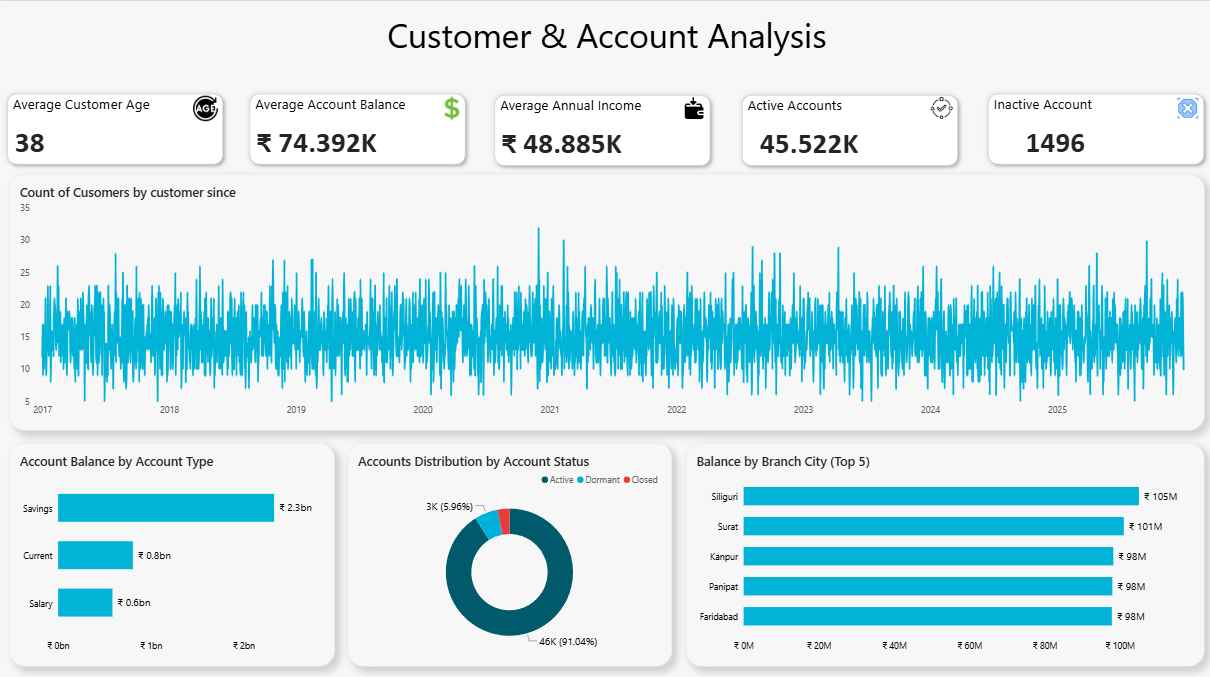

The page's visual inventory and layout, read from the dashboard file:
{"tool":"powerbi","page":{"name":"Customer & Account Analysis","canvas":[1920,1080],"ordinal":1},"visuals":[{"type":"shape","box":[388.3,138.7,360,130],"z":0},{"type":"card","title":"Total Customers","fields":{"Values":["account_measures.average_account_balance"]},"box":[384.3,178.3,239.4,85.6],"z":1000},{"type":"textbox","box":[405.8,148.3,293.9,58.4],"z":2000},{"type":"image","box":[672.3,150,90,40],"z":3000},{"type":"shape","box":[776.6,139.6,360,130],"z":4000},{"type":"card","title":"Total Customers","fields":{"Values":["customer_measures.average_annual_income"]},"box":[772.7,179.2,239.4,85.6],"z":5000},{"type":"textbox","box":[794.2,149.2,293.9,58.4],"z":6000},{"type":"shape","box":[1168.3,139.6,360,130],"z":7000},{"type":"card","title":"Total Customers","fields":{"Values":["account_measures.active_accounts"]},"box":[1164.3,179.2,239.4,85.6],"z":8000},{"type":"textbox","box":[1185.8,149.2,293.9,58.4],"z":9000},{"type":"shape","box":[1558.2,138.8,360,130],"z":10000},{"type":"card","title":"Total Customers","fields":{"Values":["account_measures.inactive_accounts"]},"box":[1554.2,178.4,239.4,85.6],"z":11000},{"type":"textbox","box":[1575.7,148.4,293.9,58.4],"z":12000},{"type":"shape","box":[3.8,138.2,360,130],"z":13000},{"type":"card","title":"Total Customers","fields":{"Values":["customer_measures.average_customer_age"]},"box":[1.9,178,93.8,86.1],"z":14000},{"type":"textbox","box":[21.3,147.8,293.9,58.4],"z":15000},{"type":"image","box":[282,150,90,40],"z":16000},{"type":"image","box":[1056.2,150,90,40],"z":17000},{"type":"image","box":[1845.4,150,74.6,40],"z":18000},{"type":"image","box":[1455.7,150,74.3,40],"z":19000},{"type":"lineChart","title":"Count of Cusomers by customer since","fields":{"Category":["bank customers_analysis.customer_since"],"Y":["CountNonNull(bank customers_analysis.customer_id)"]},"box":[16,274,1894,406],"z":20000},{"type":"barChart","title":"Account Balance by Account Type","fields":{"Category":["bank accounts_analysis.account_type"],"Y":["account_measures.Total_accounts_balance"]},"box":[16,700,516,354],"z":21000},{"type":"donutChart","title":"Accounts Distribution by Account Status","fields":{"Category":["bank accounts_analysis.account_status"],"Y":["account_measures.total_accounts"]},"box":[552,700,514,354],"z":22000},{"type":"clusteredBarChart","title":"Balance by Branch City (Top 5)","fields":{"Category":["bank branches_analysis.city"],"Y":["account_measures.Total_accounts_balance"]},"box":[1088.9,700,821.1,354.4],"z":23000},{"type":"textbox","box":[16,16,1894,98],"z":24000}]}

Visuals, with their boxes in screenshot pixels (x1, y1, x2, y2), scaled from the page's 1920x1080 canvas onto the 1210x677 screenshot:
shape: Rect(245, 87, 472, 168)
"Total Customers" card: Rect(242, 112, 393, 165)
textbox: Rect(256, 93, 441, 130)
image: Rect(424, 94, 480, 119)
shape: Rect(489, 88, 716, 169)
"Total Customers" card: Rect(487, 112, 638, 166)
textbox: Rect(501, 94, 686, 130)
shape: Rect(736, 88, 963, 169)
"Total Customers" card: Rect(734, 112, 885, 166)
textbox: Rect(747, 94, 933, 130)
shape: Rect(982, 87, 1209, 168)
"Total Customers" card: Rect(979, 112, 1130, 165)
textbox: Rect(993, 93, 1178, 130)
shape: Rect(2, 87, 229, 168)
"Total Customers" card: Rect(1, 112, 60, 166)
textbox: Rect(13, 93, 199, 129)
image: Rect(178, 94, 234, 119)
image: Rect(666, 94, 722, 119)
image: Rect(1163, 94, 1209, 119)
image: Rect(917, 94, 964, 119)
"Count of Cusomers by customer since" lineChart: Rect(10, 172, 1204, 426)
"Account Balance by Account Type" barChart: Rect(10, 439, 335, 661)
"Accounts Distribution by Account Status" donutChart: Rect(348, 439, 672, 661)
"Balance by Branch City (Top 5)" clusteredBarChart: Rect(686, 439, 1204, 661)
textbox: Rect(10, 10, 1204, 71)
